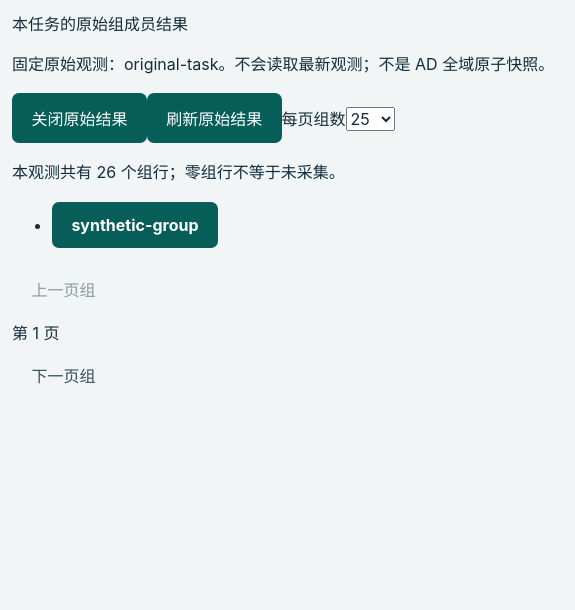
it: original-only v4 result presentation › distinguishes unreturned and empty original member values null
Click the button "synthetic-group".
click(135, 225)  # box x1=52 y1=202 x2=218 y2=248
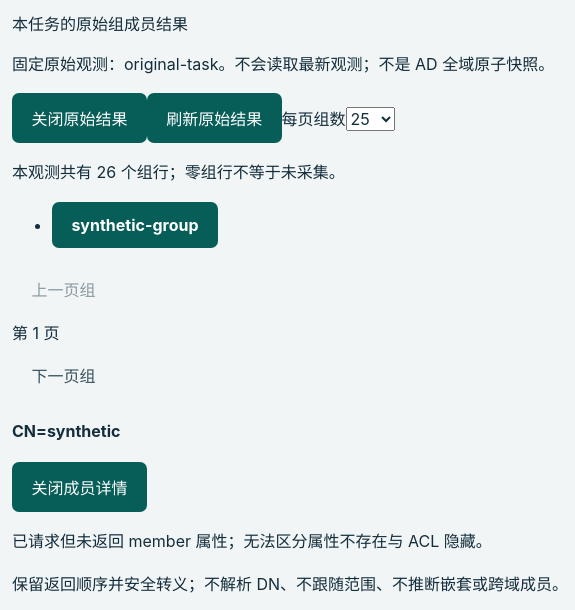
Result: the text "已请求但未返回 member 属性；无法区分属性不存在与 ACL 隐藏。" is shown at x1=12 y1=531 x2=492 y2=551
